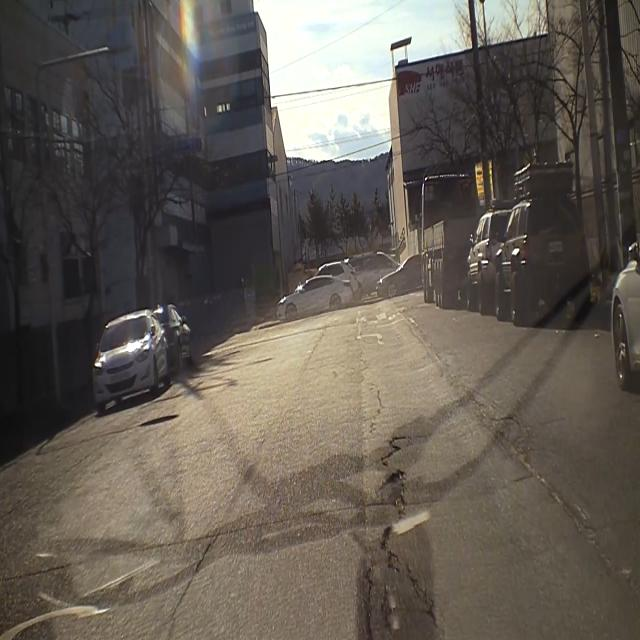Pothole: (370, 461, 414, 574)
